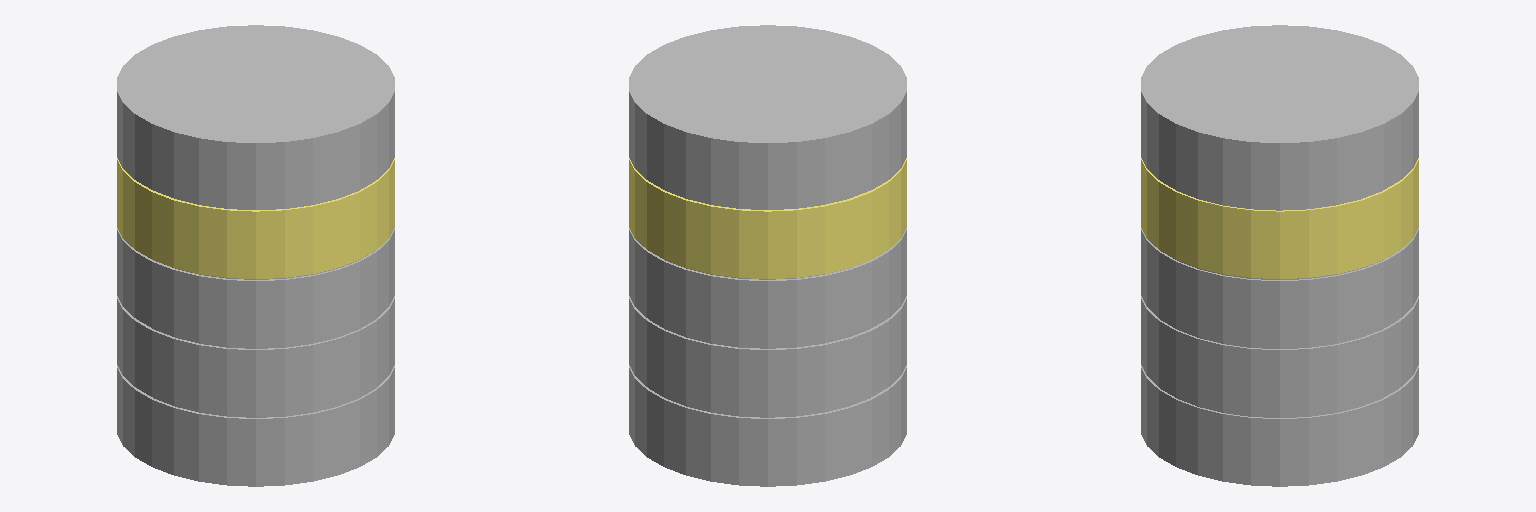
3 views of the same model, side by side, from view 1: azimuth 30°, elevation 25°; view 2: azimuth 150°, elevation 25°; view 3: azimuth 270°, elevation 25° (orthographic).
Parts seen in each view (by area): view 1: Cylinder025; view 2: Cylinder025; view 3: Cylinder025.
Boxes of the visible parts, x1=… form: Cylinder025: x1=117, y1=25, x2=394, y2=486; Cylinder025: x1=629, y1=25, x2=906, y2=486; Cylinder025: x1=1141, y1=25, x2=1418, y2=486.
Size of the model in its own units: 368 by 498 by 366.
1 materials, 1 textured.